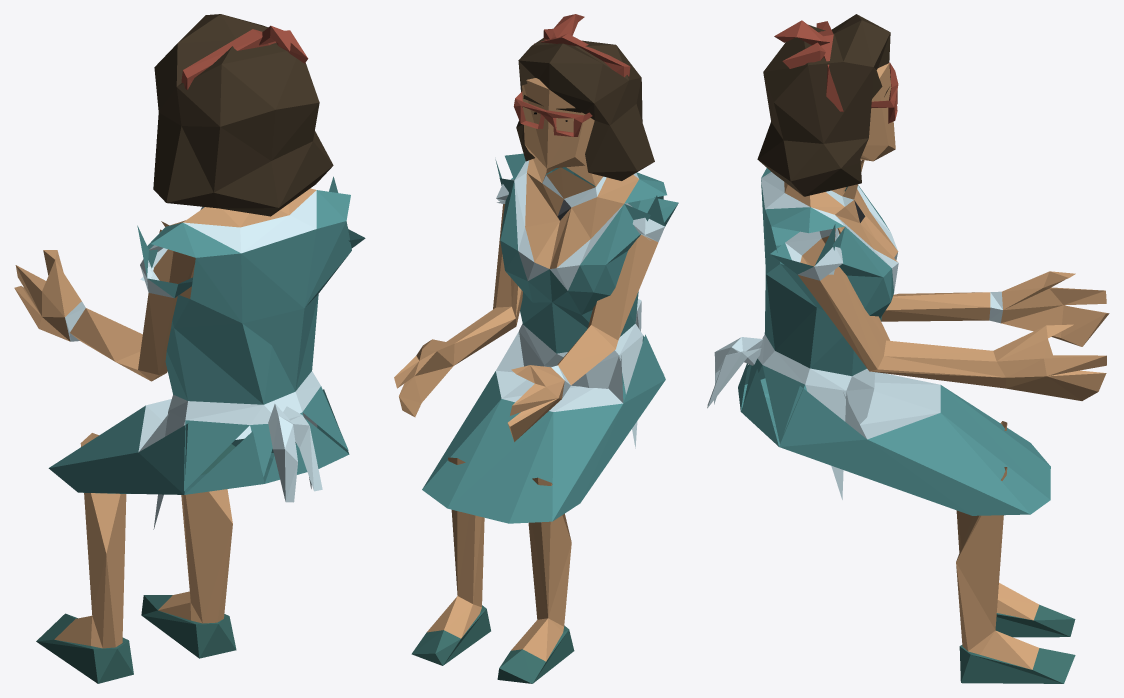
The model's file is Seated_Neighbour.obj.
3 renders of one model, left to right at view 1: azimuth 30°, elevation 25°; view 2: azimuth 150°, elevation 25°; view 3: azimuth 270°, elevation 25°, orthographic. The views are drawn at different scales.
Parts seen in each view (by area): view 1: Seated_Neighbour; view 2: Seated_Neighbour; view 3: Seated_Neighbour.
Part boxes in pixels (<box>): Seated_Neighbour: <box>14,14,365,683</box>; Seated_Neighbour: <box>394,14,678,683</box>; Seated_Neighbour: <box>707,14,1109,683</box>.
Size of the model in its own units: 0.4576 by 1.52 by 0.8684.
1 material, 1 textured.
